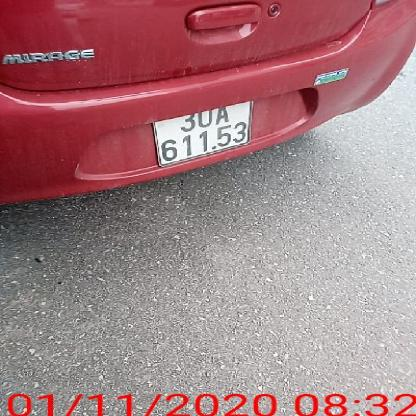biensoxe: (151, 101, 253, 168)
